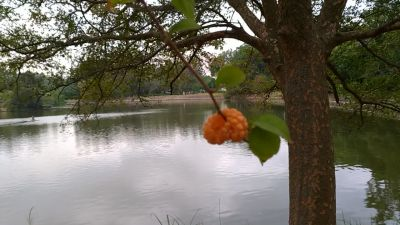eggs: (204, 107, 249, 144)
